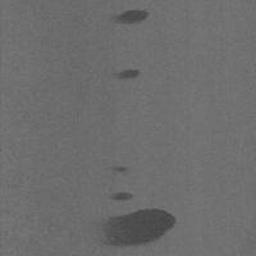Oil spot: (102, 209, 177, 246), (115, 9, 148, 23), (118, 69, 140, 78), (113, 192, 133, 200), (114, 166, 127, 172)
